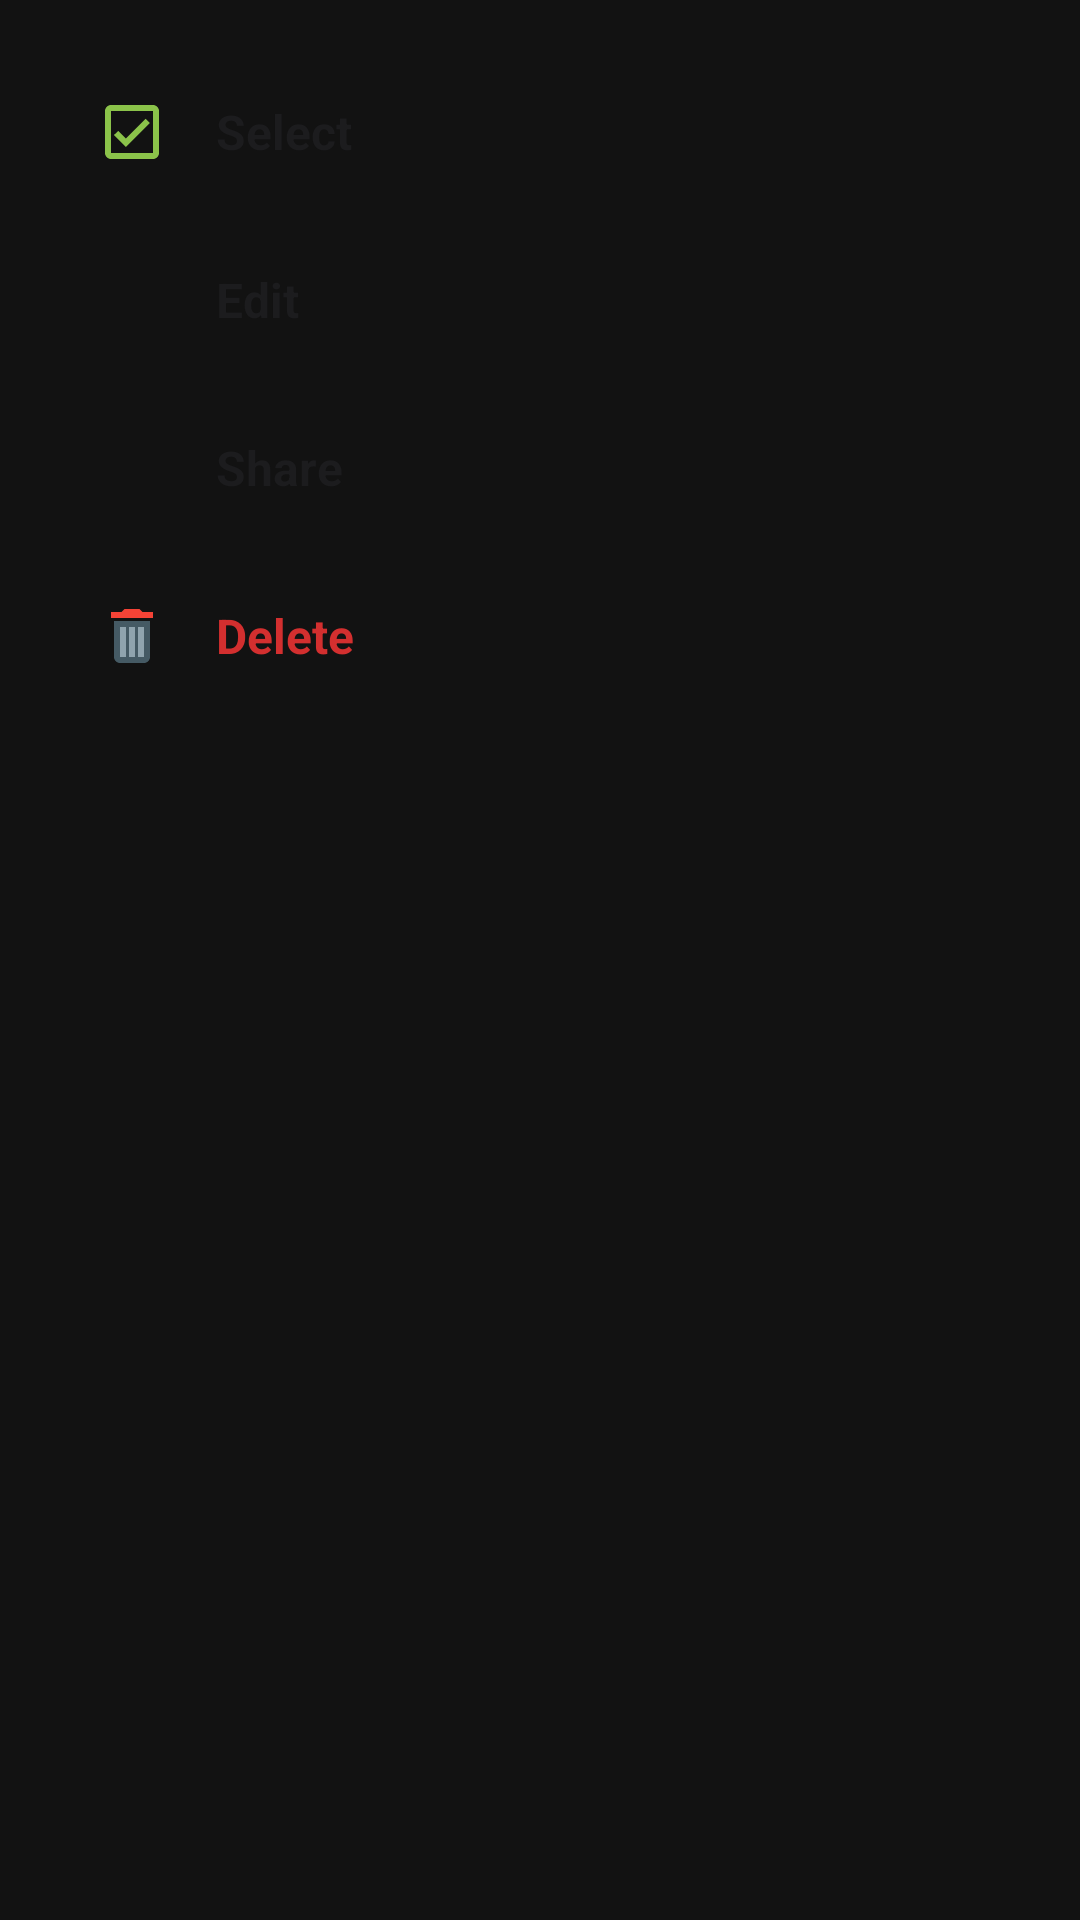

Locate icon controls on the screen. Image size 1080px x 1920px, boxes as detection(x1, y1, x2, y2).
task: detection(105, 105, 159, 159)
trash: detection(111, 609, 153, 663)
